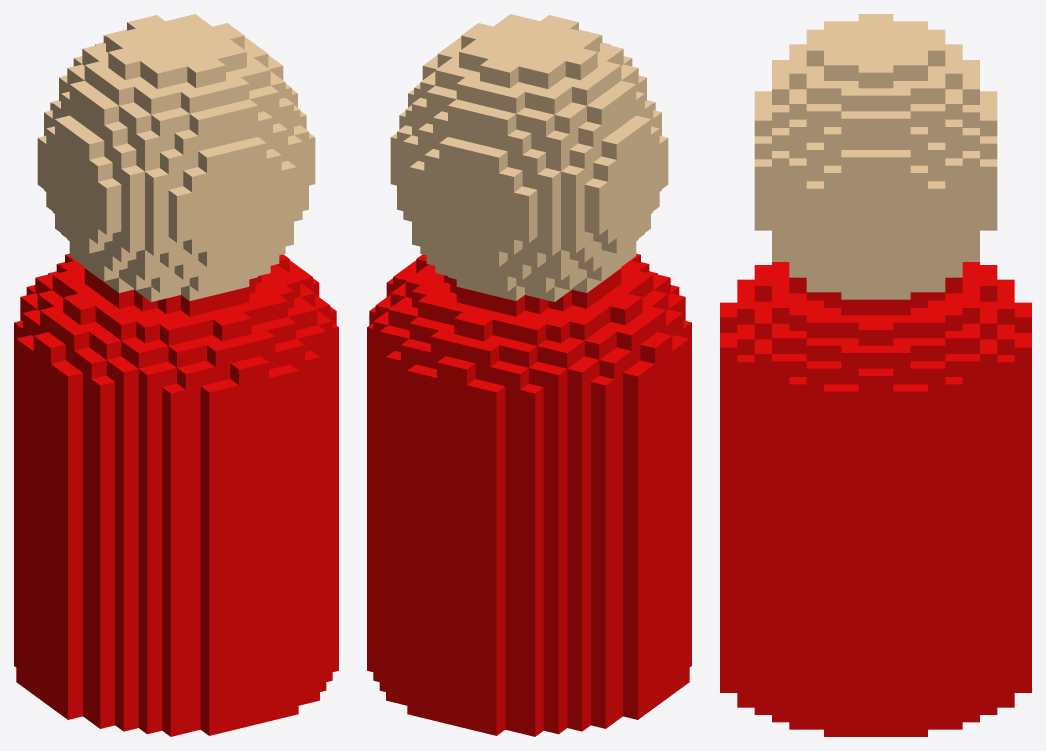
Rendered from Person_10.fbx.
3 views of the same model, side by side, from view 1: azimuth 30°, elevation 25°; view 2: azimuth 150°, elevation 25°; view 3: azimuth 270°, elevation 25° (orthographic).
Visible parts, largest first — view 1: Person_10; view 2: Person_10; view 3: Person_10.
Part boxes in pixels (x1,y1,x2,y2): Person_10: [14, 14, 338, 736]; Person_10: [367, 14, 691, 736]; Person_10: [720, 14, 1031, 736].
Size of the model in its own units: 18 by 40 by 18.
Materials: 1 (1 with a texture image).
